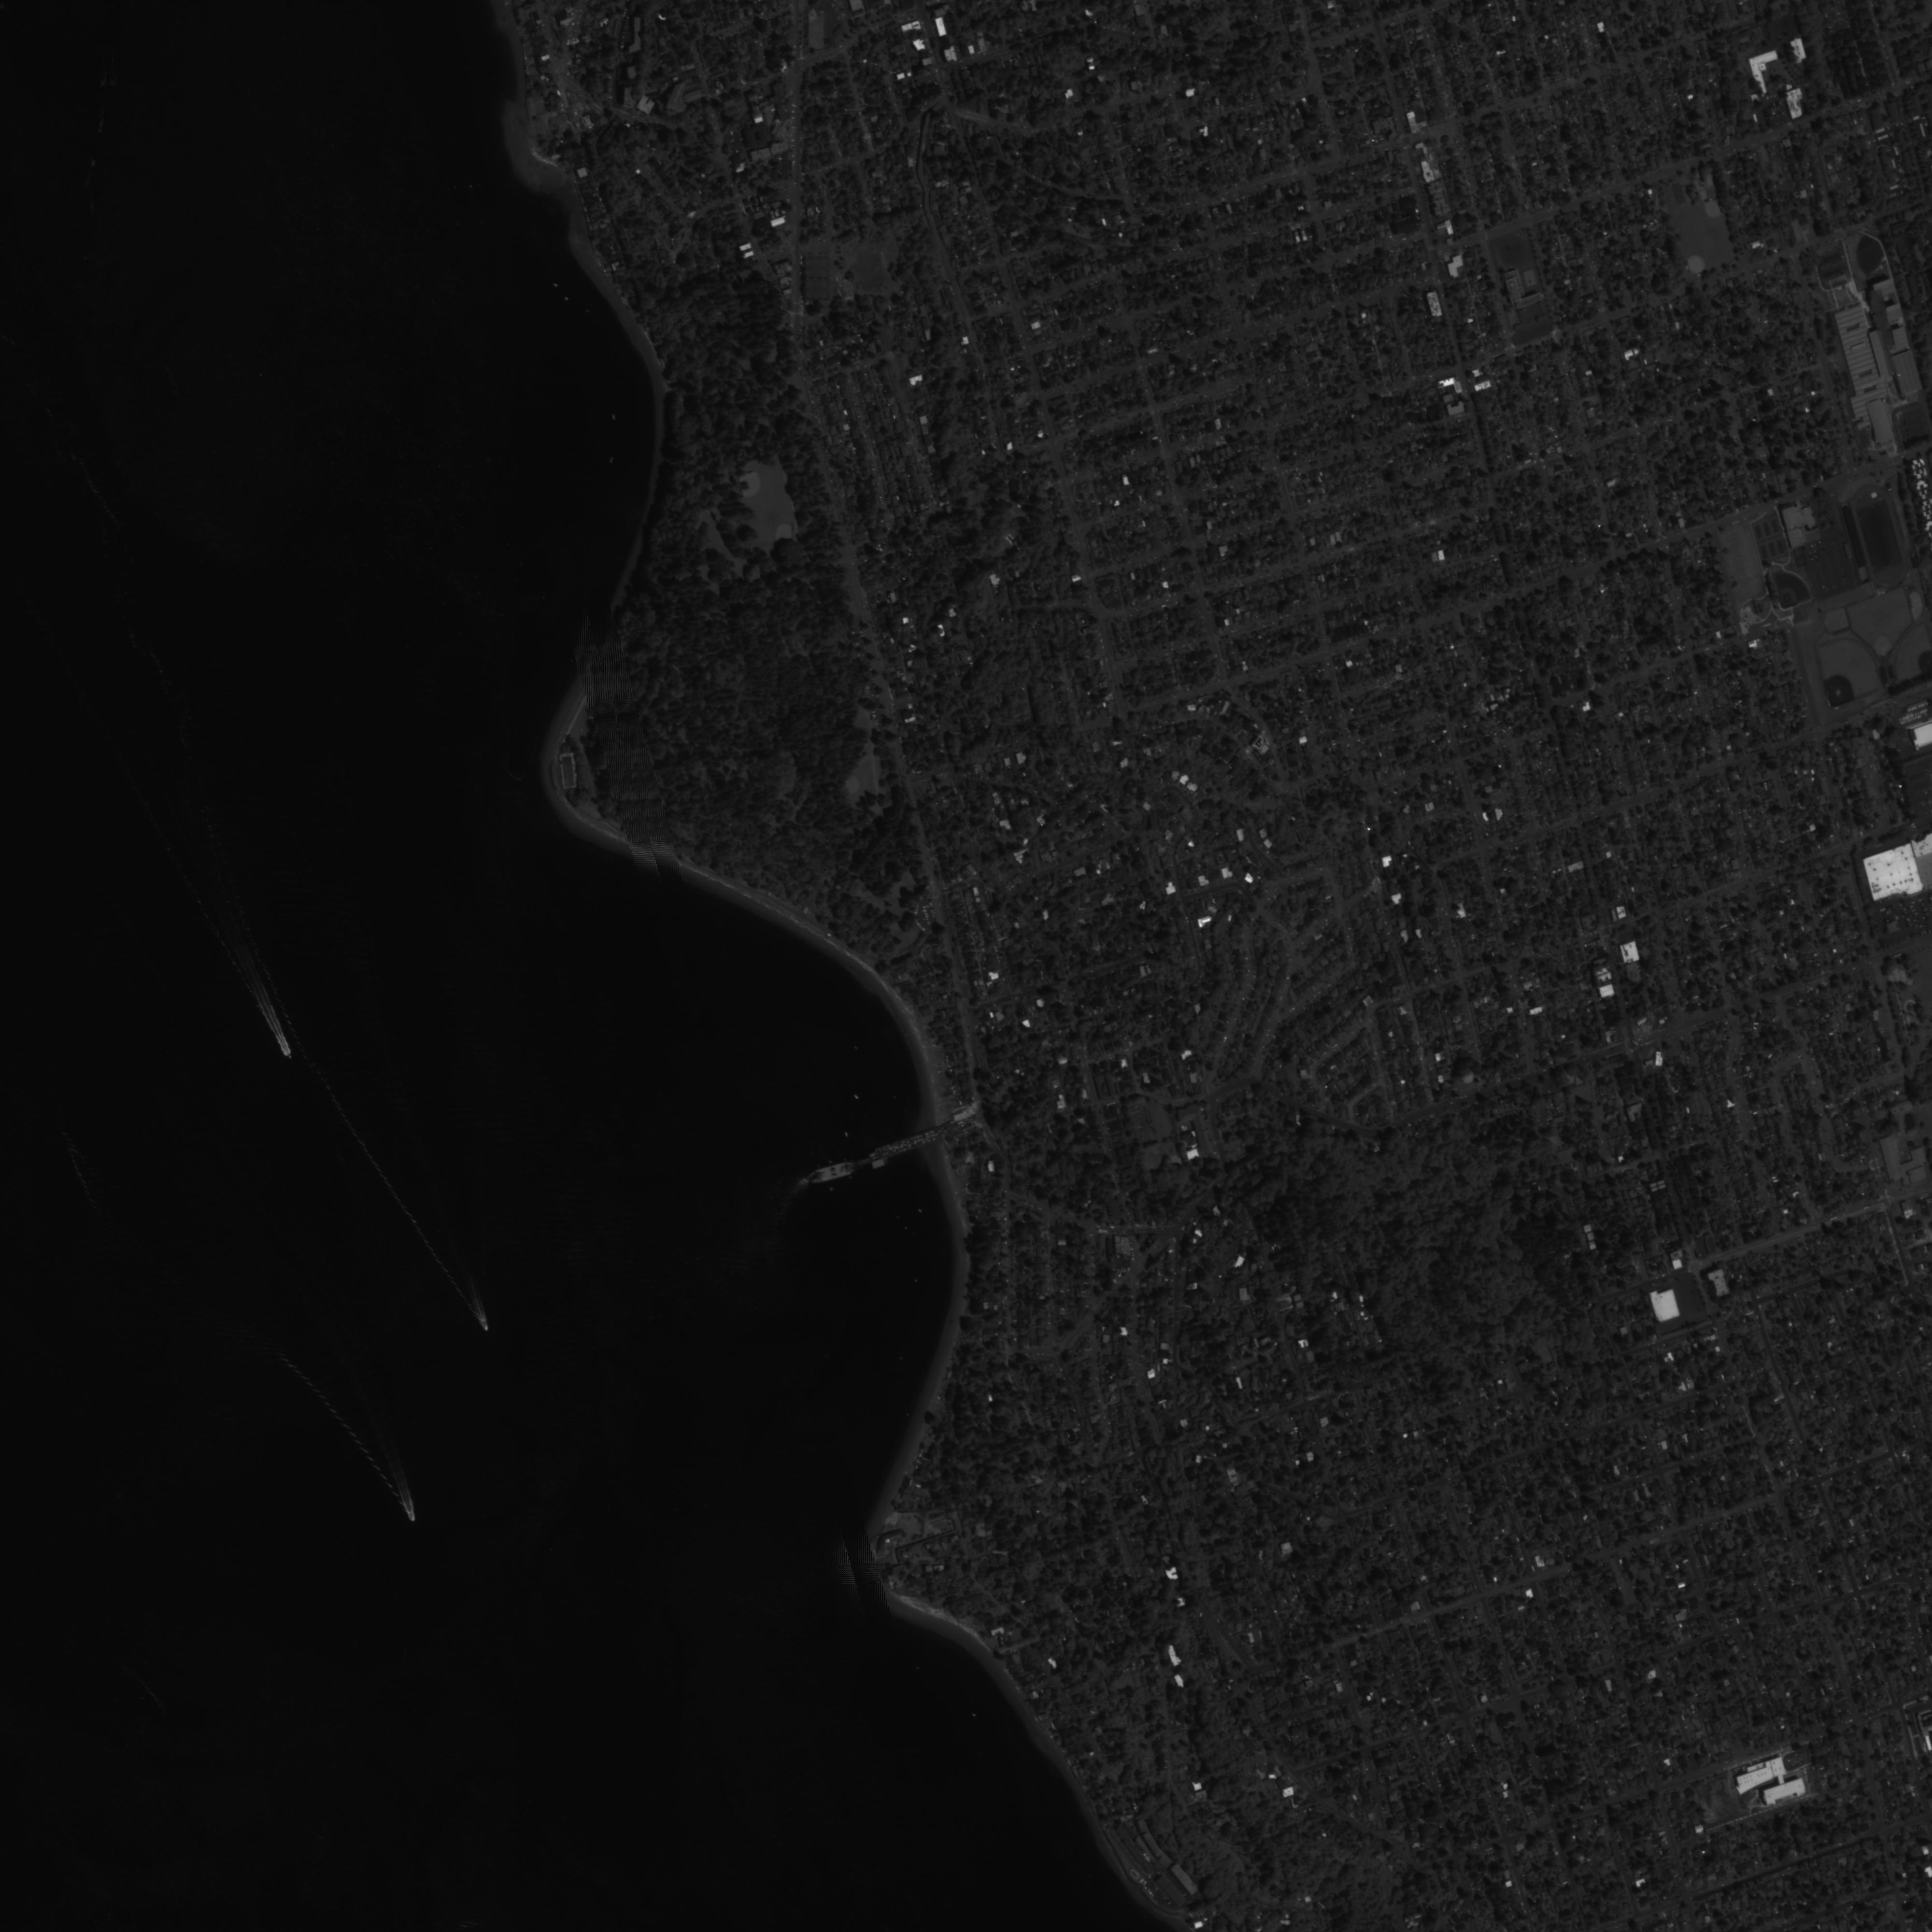harbor: (860, 1118, 961, 1168)
ship: (794, 1157, 863, 1189), (481, 1320, 492, 1334), (409, 1511, 416, 1523), (285, 1051, 294, 1060)
